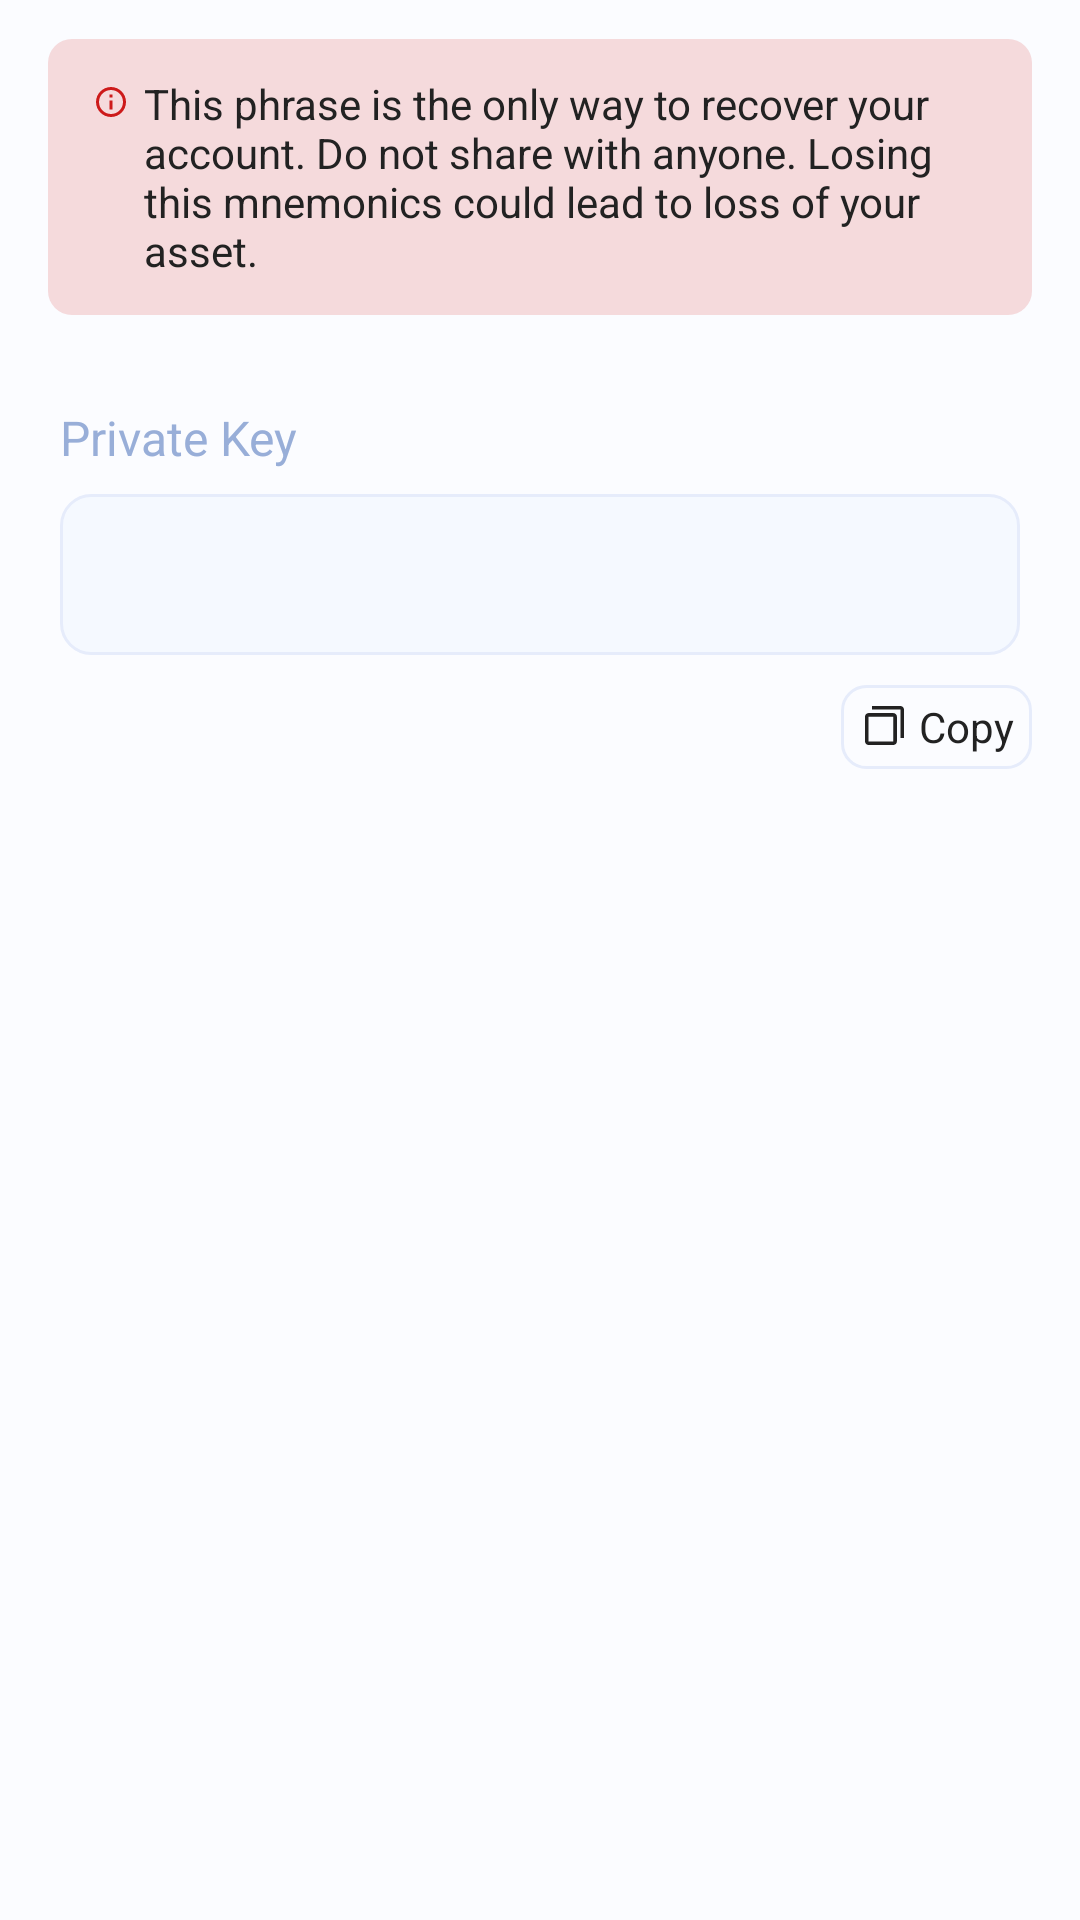

Icon click points for this 1080w x 1920h phone screenshot, format [x,y]:
info: [111,102]
